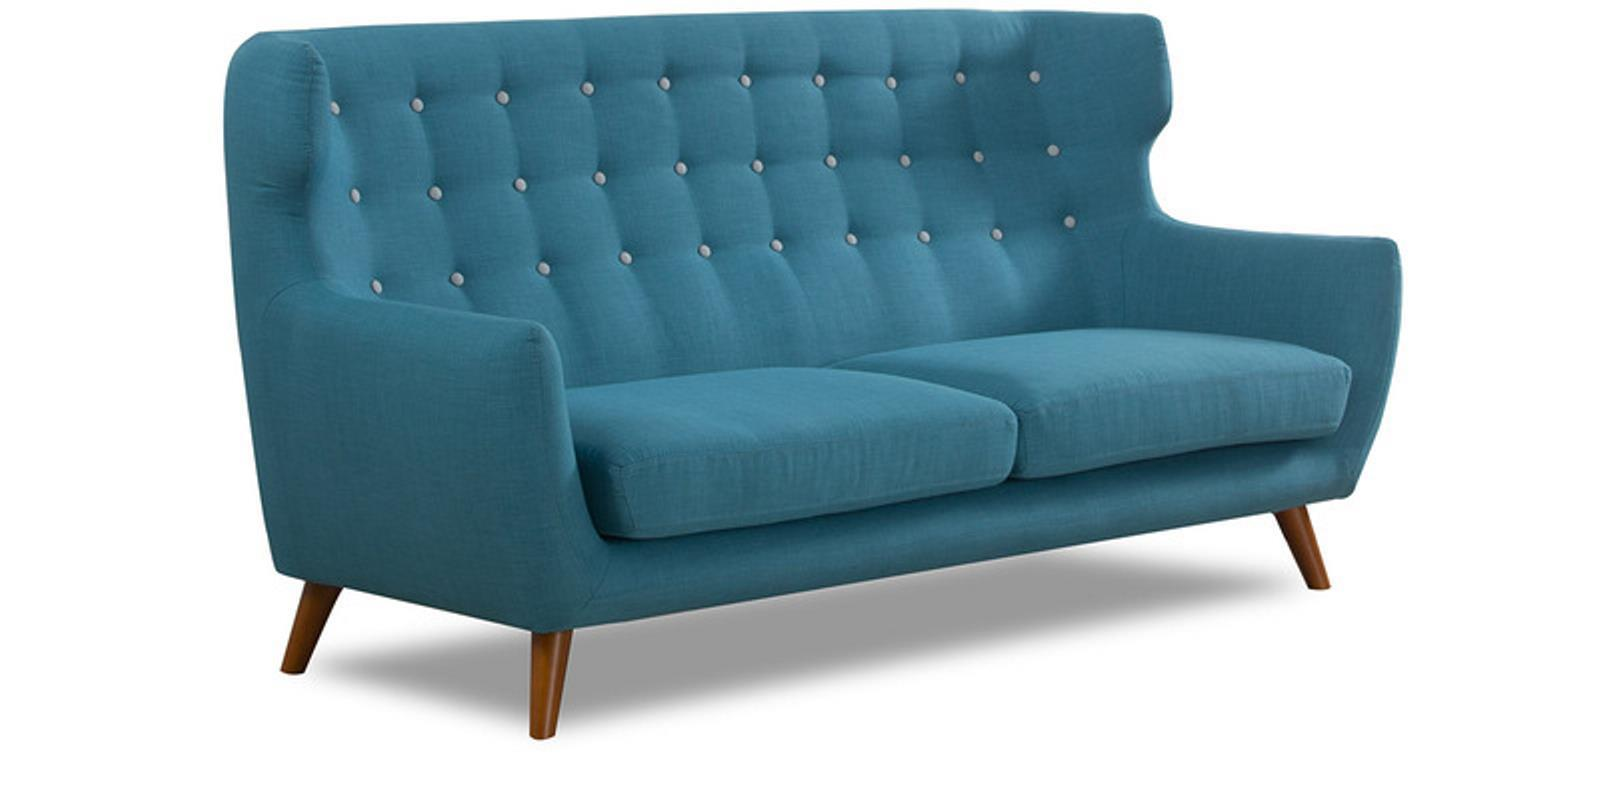Valencia Three Seater Sofa in Ocean Blue Colour by CasaCraft: (202, 5, 1413, 745)
